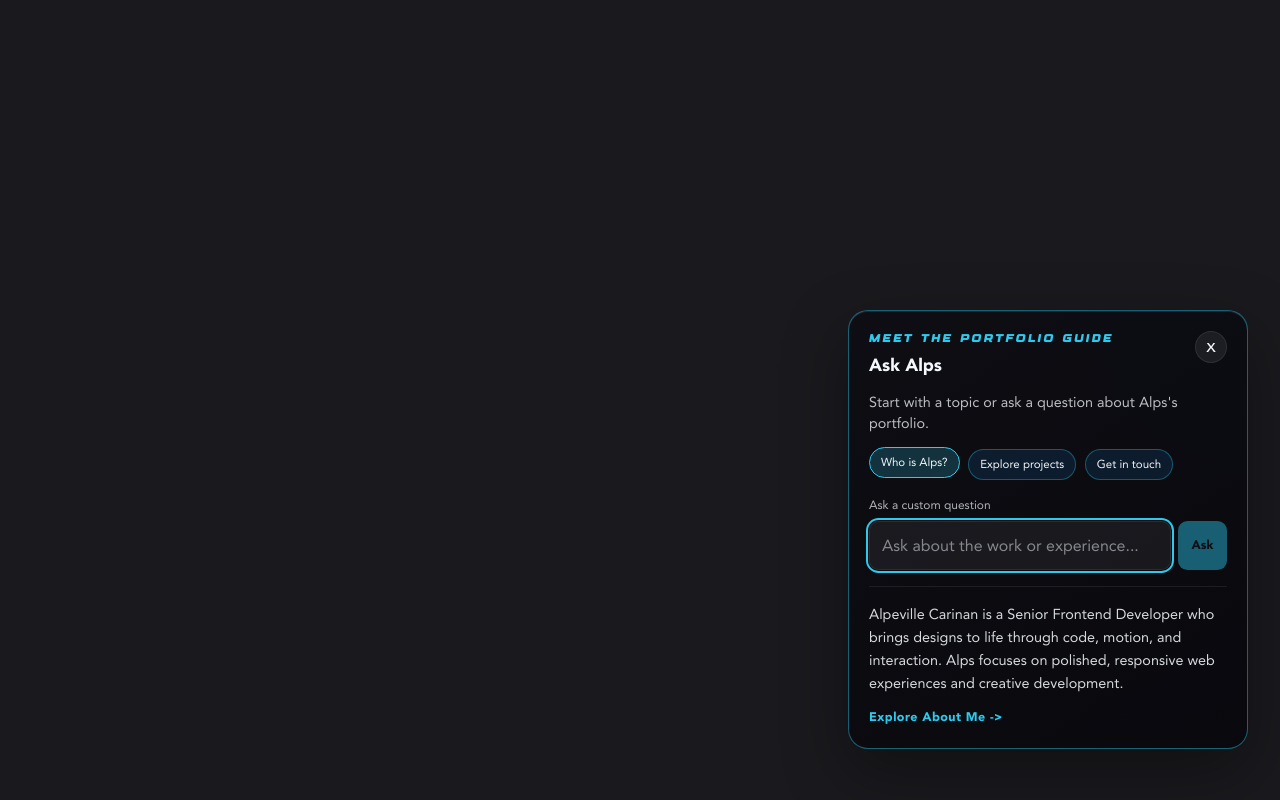
Test case: PortfolioAssistant › shows a new answer when a suggestion is selected
The width and height of the screenshot is (1280, 800).
Click the button "Explore projects": click(1022, 465) 968,449 -> 1076,480
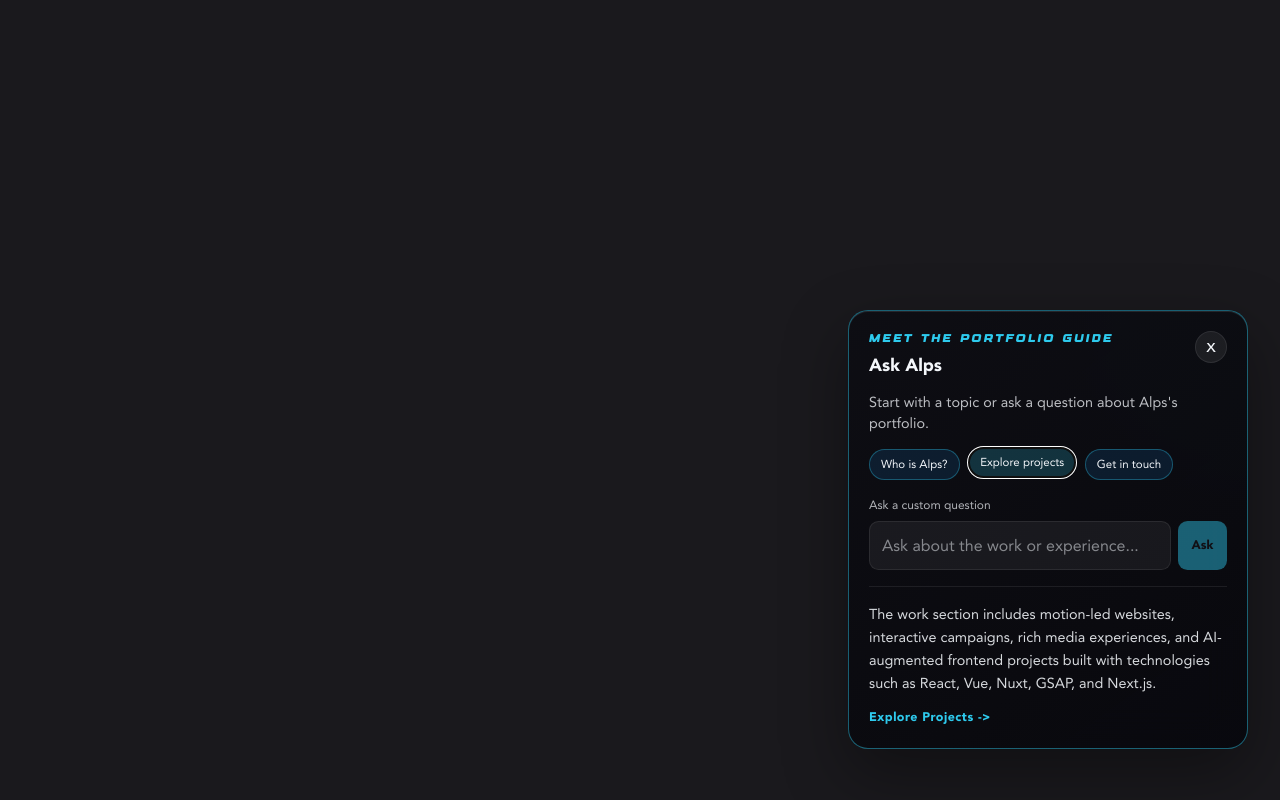
Expected: the text "motion-led websites" is shown, 869,605 -> 1222,693
